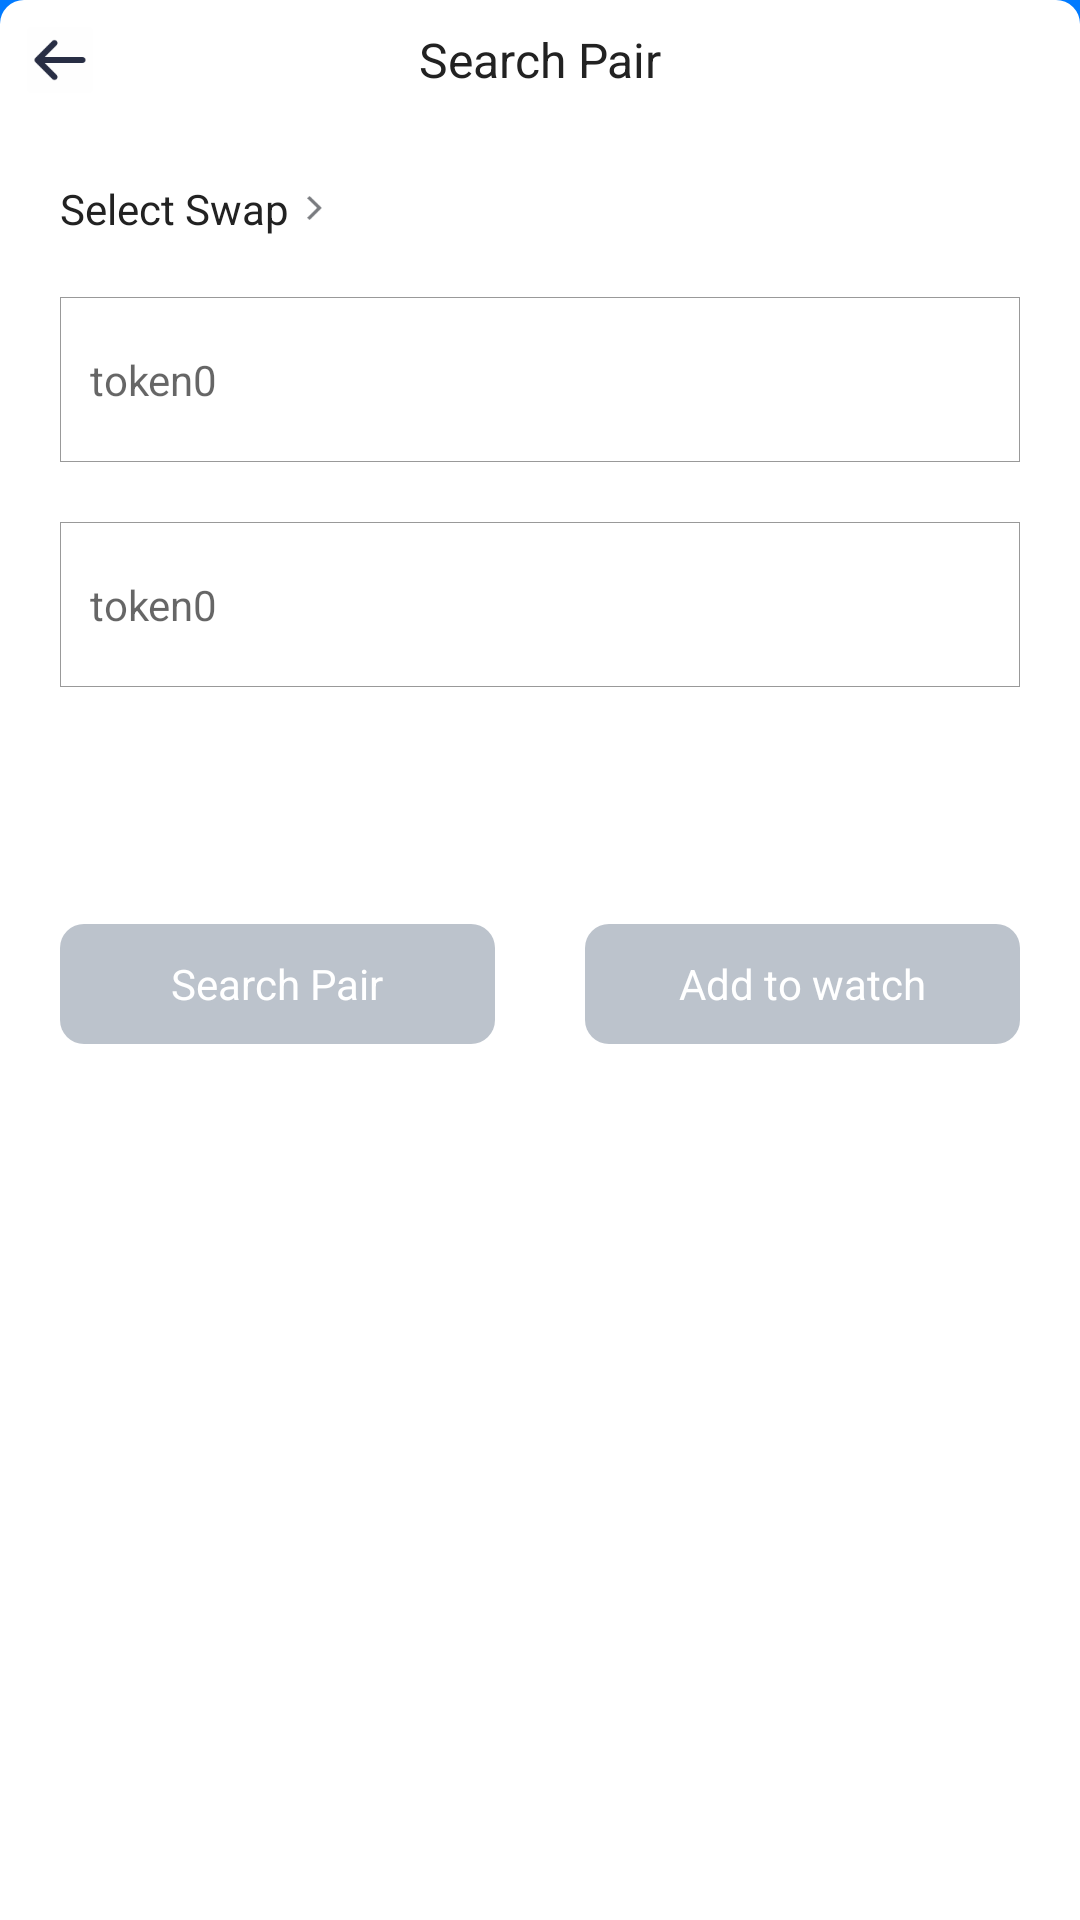

Where icons sit on this 1080*1920 app screen, as (x1, y1, x2, y2):
base back: (34, 40, 86, 80)
